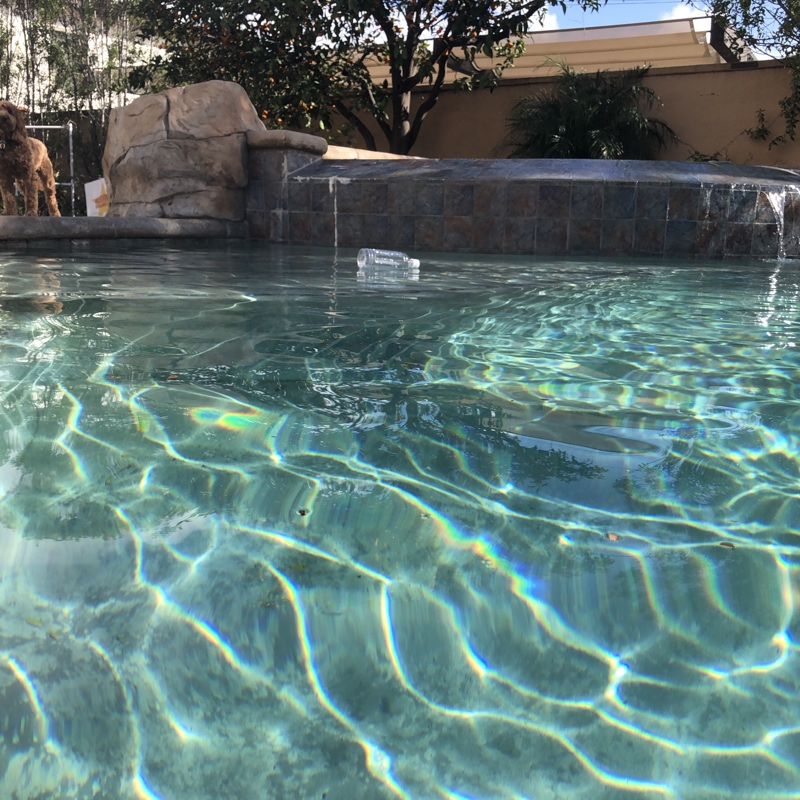Plastic Bottle: (353, 244, 422, 277)
